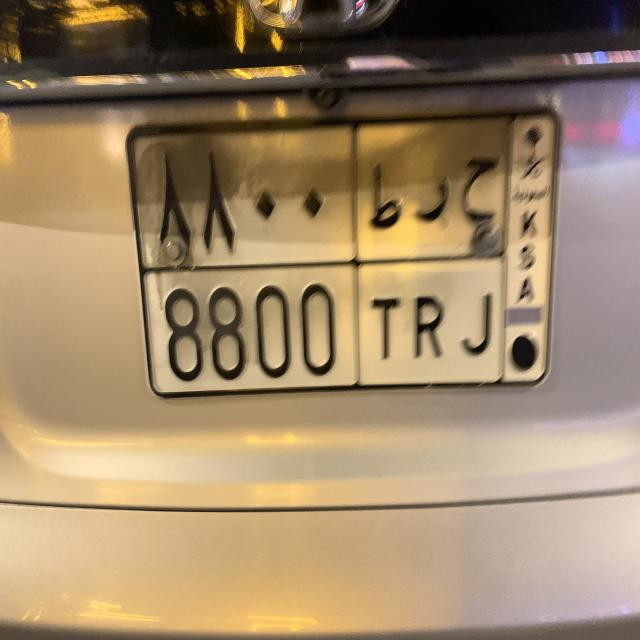license_plate: (123, 102, 564, 404)
